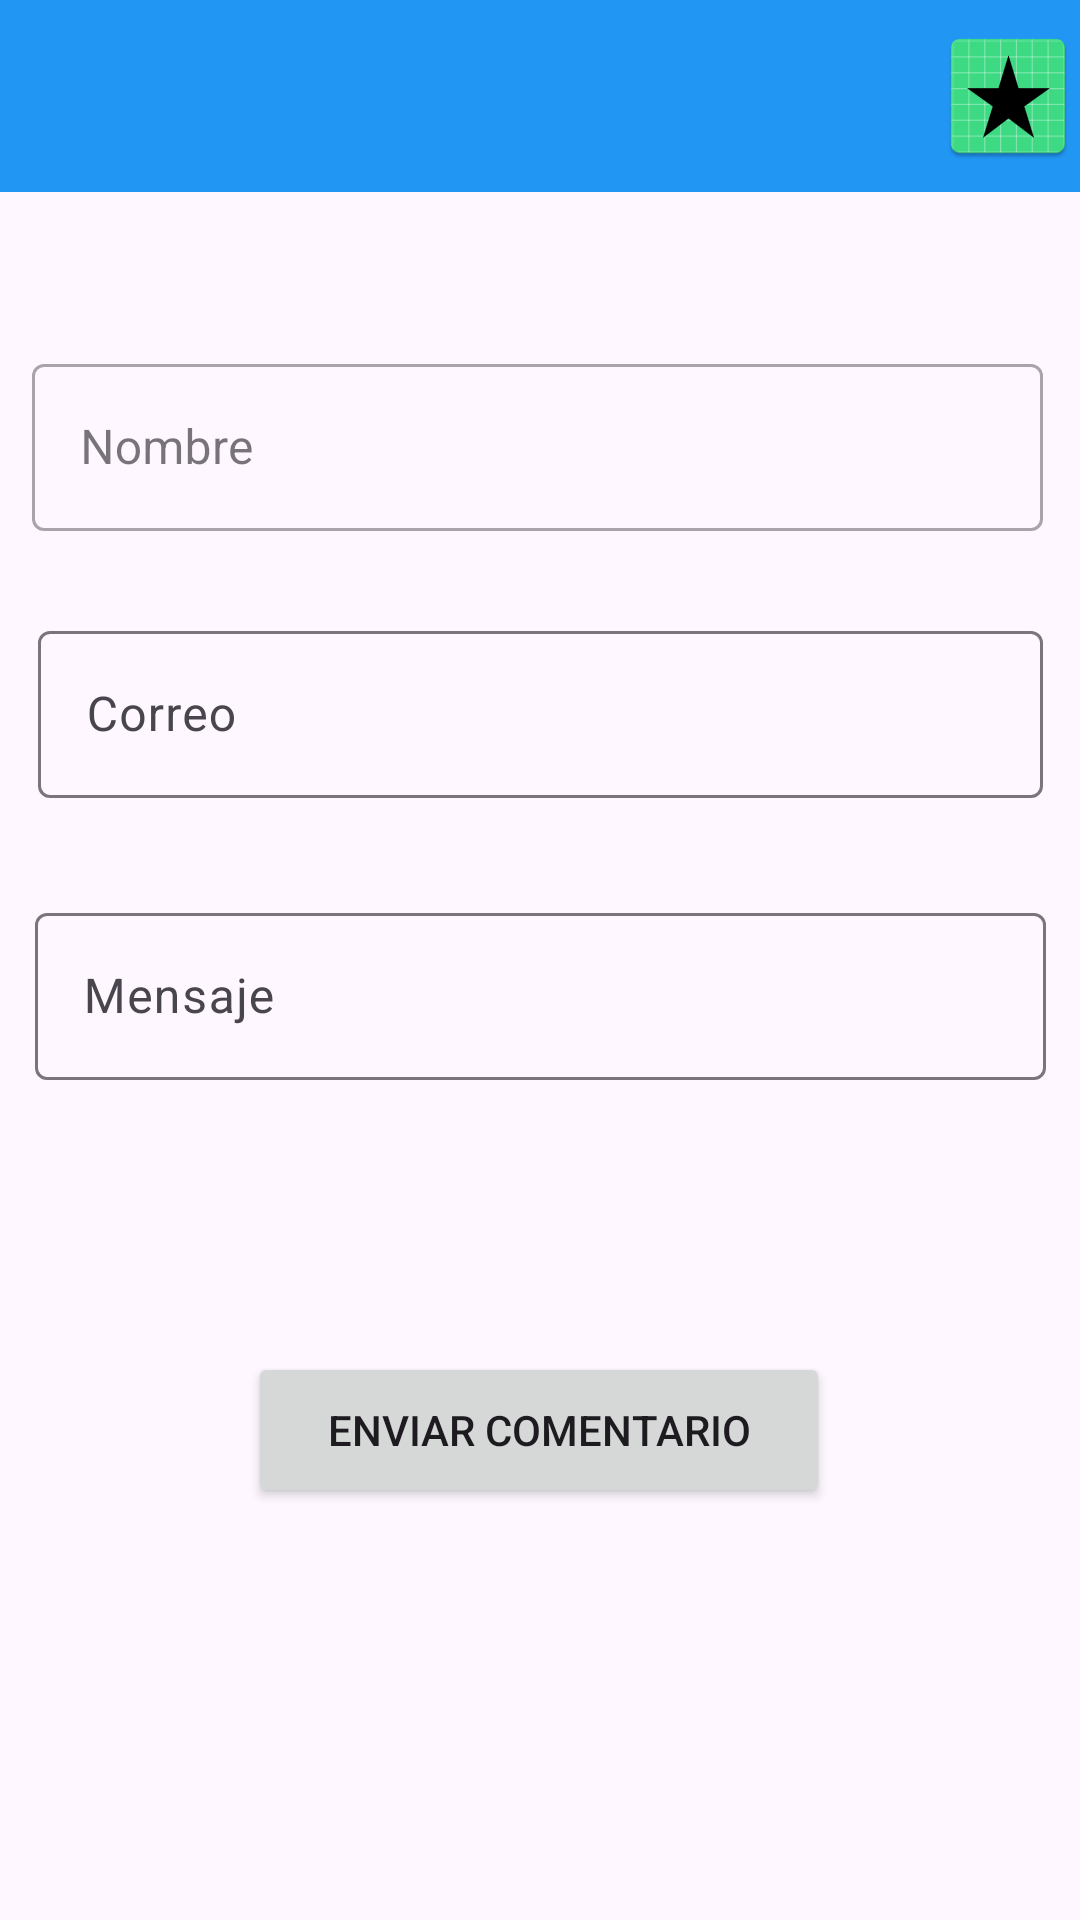

Named icons in this screenshot (1080w x 1920h) and their centers, (x=x, y=y):
star: (x=1008, y=98)
